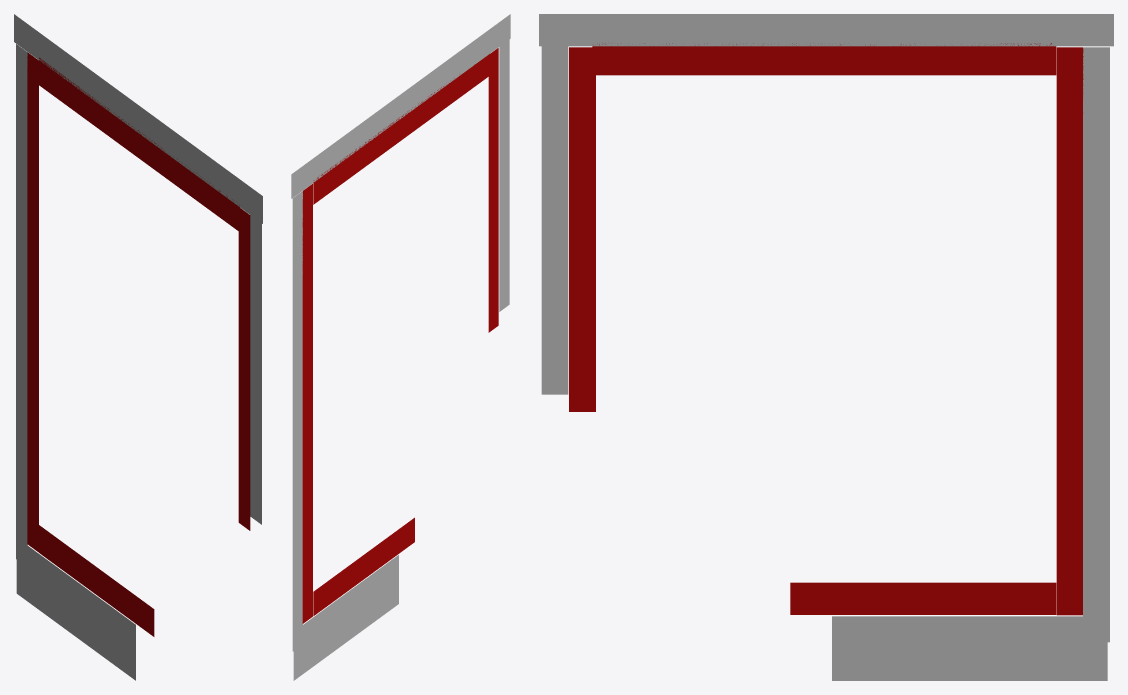
File: u-class-cab-lining.dae
3 views of the same model, side by side, from view 1: azimuth 30°, elevation 25°; view 2: azimuth 150°, elevation 25°; view 3: azimuth 270°, elevation 25° (orthographic). The views are drawn at different scales.
Visible parts, largest first — view 1: Plane_002, Plane_003, Plane_005, Plane_006, Plane_010, Plane_008, Plane_004, Plane_009; view 2: Plane_002, Plane_003, Plane_005, Plane_006, Plane_010, Plane_008, Plane_004, Plane_009; view 3: Plane_002, Plane_003, Plane_005, Plane_006, Plane_010, Plane_008, Plane_004, Plane_009.
Part boxes in pixels (<box>): Plane_002: <box>14,14,262,223</box>; Plane_003: <box>16,538,135,680</box>; Plane_005: <box>16,44,27,559</box>; Plane_006: <box>27,52,38,552</box>; Plane_010: <box>39,57,239,231</box>; Plane_008: <box>238,208,250,530</box>; Plane_004: <box>250,213,261,524</box>; Plane_009: <box>39,525,154,636</box>; Plane_002: <box>291,14,510,198</box>; Plane_003: <box>293,555,398,680</box>; Plane_005: <box>292,191,302,651</box>; Plane_006: <box>302,184,312,623</box>; Plane_010: <box>313,54,490,204</box>; Plane_008: <box>488,48,498,332</box>; Plane_004: <box>499,39,509,311</box>; Plane_009: <box>313,517,414,615</box>; Plane_002: <box>539,14,1113,46</box>; Plane_003: <box>832,616,1107,680</box>; Plane_005: <box>1083,47,1109,642</box>; Plane_006: <box>1056,47,1083,615</box>; Plane_010: <box>592,43,1056,75</box>; Plane_008: <box>569,47,595,411</box>; Plane_004: <box>541,43,568,394</box>; Plane_009: <box>790,582,1056,614</box>.
Bounding box in the file's own units: 0.000525 × 0.7823 × 1.
